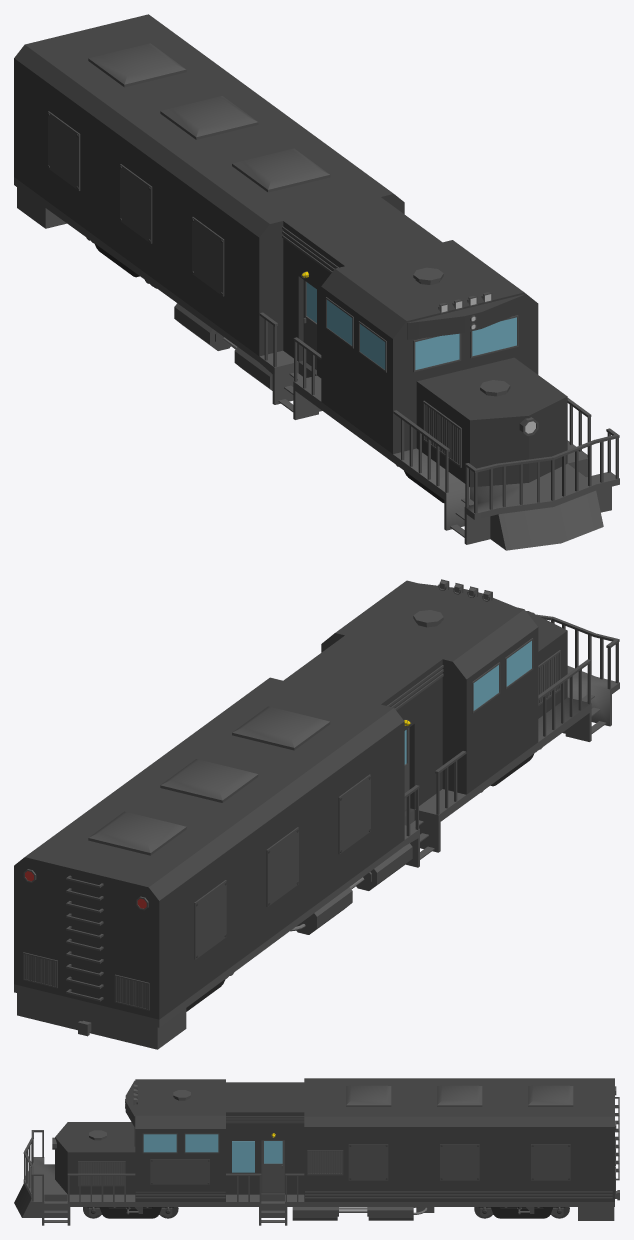
The model's file is SM_Vehicles_Train_01.fbx.
The picture shows the model from 3 angles, top to bottom: view 1: azimuth 30°, elevation 25°; view 2: azimuth 150°, elevation 25°; view 3: azimuth 270°, elevation 25°; orthographic projection. The views are drawn at different scales.
Visible parts, largest first — view 1: SM_Vehicles_Train_01; view 2: SM_Vehicles_Train_01; view 3: SM_Vehicles_Train_01.
Part boxes in pixels (<box>): SM_Vehicles_Train_01: <box>14,14,619,550</box>; SM_Vehicles_Train_01: <box>14,579,619,1049</box>; SM_Vehicles_Train_01: <box>14,1078,619,1225</box>.
Size of the model in its own units: 3.59 by 4.21 by 19.96.
